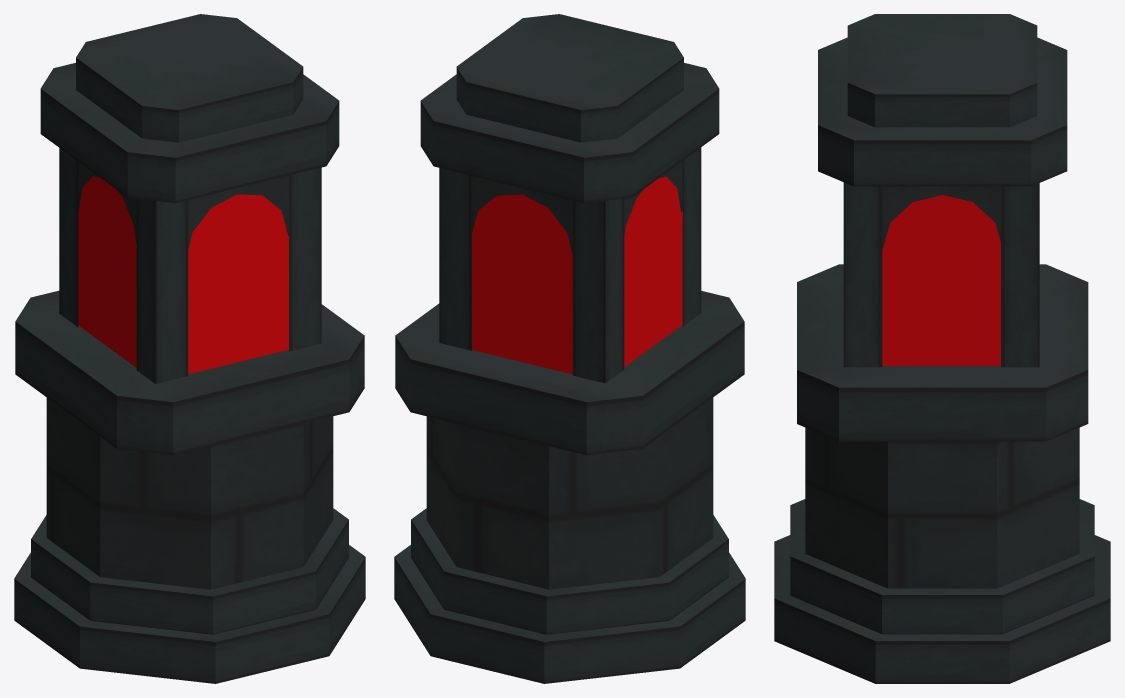
File: Coast Lantern.fbx
3 renders of one model, left to right at view 1: azimuth 30°, elevation 25°; view 2: azimuth 150°, elevation 25°; view 3: azimuth 270°, elevation 25°, orthographic.
Visible parts, largest first — view 1: Lantern; view 2: Lantern; view 3: Lantern.
Part boxes in pixels (<box>): Lantern: <box>14,14,365,683</box>; Lantern: <box>394,14,745,683</box>; Lantern: <box>774,14,1110,683</box>.
Size of the model in its own units: 318 by 582 by 318.
